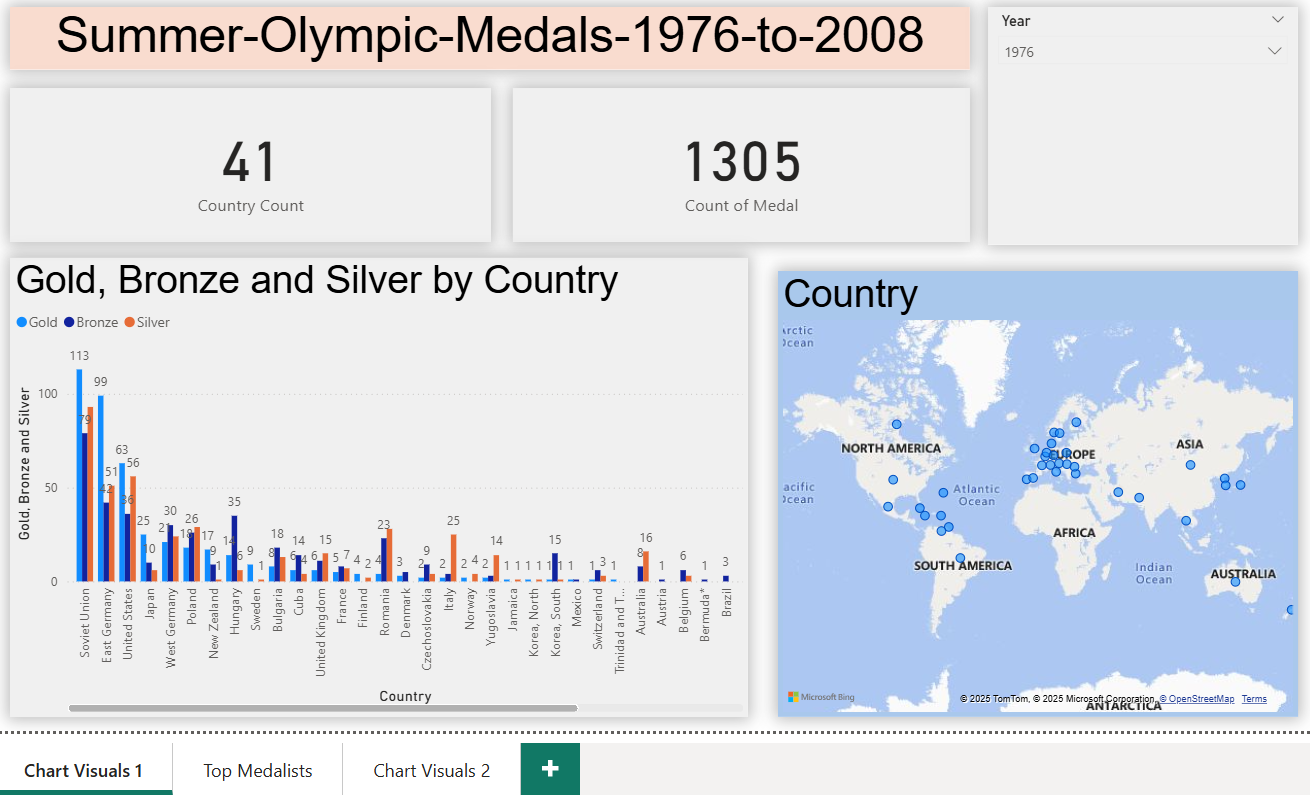

The dashboard page shown, as its layout file describes it:
{"tool":"powerbi","page":{"name":"Chart Visuals 1","canvas":[1280,720],"ordinal":0},"visuals":[{"type":"textbox","title":"Summer-Olympic-Medals-1976-to-2008","box":[15.1,17,931.7,60.5],"z":0},{"type":"map","fields":{"Category":["Summer-Olympic-medals-1976-to-2008.Country"]},"box":[759.7,274,504.6,432.8],"z":1000},{"type":"card","fields":{"Values":["Summer-Olympic-medals-1976-to-2008.Country Count"]},"box":[15.1,96.4,466.8,149.3],"z":2000},{"type":"card","fields":{"Values":["CountNonNull(Summer-Olympic-medals-1976-to-2008.Medal)"]},"box":[502.7,96.4,444.1,149.3],"z":3000},{"type":"slicer","fields":{"Values":["Summer-Olympic-medals-1976-to-2008.Year"]},"box":[963.8,17,300.5,230.6],"z":4000},{"type":"clusteredColumnChart","fields":{"Y":["Summer-Olympic-medals-1976-to-2008.Gold","Summer-Olympic-medals-1976-to-2008.Bronze","Summer-Olympic-medals-1976-to-2008.Silver"],"Category":["Summer-Olympic-medals-1976-to-2008.Country"]},"box":[15.1,260.8,716.2,446],"z":5000}]}

Visuals, with their boxes on the page's 1280x720 design canvas (x1, y1, x2, y2). These are canvas units, not pixel positions in the 1310x795 screenshot, which may show the page scaled, cropped or inside an application window:
"Summer-Olympic-Medals-1976-to-2008" textbox: bbox(15, 17, 947, 78)
map - Summer-Olympic-medals-1976-to-2008.Country: bbox(760, 274, 1264, 707)
card - Summer-Olympic-medals-1976-to-2008.Country Count: bbox(15, 96, 482, 246)
card - CountNonNull(Summer-Olympic-medals-1976-to-2008.Medal): bbox(503, 96, 947, 246)
slicer - Summer-Olympic-medals-1976-to-2008.Year: bbox(964, 17, 1264, 248)
clusteredColumnChart - Summer-Olympic-medals-1976-to-2008.Gold x Summer-Olympic-medals-1976-to-2008.Bronze: bbox(15, 261, 731, 707)
